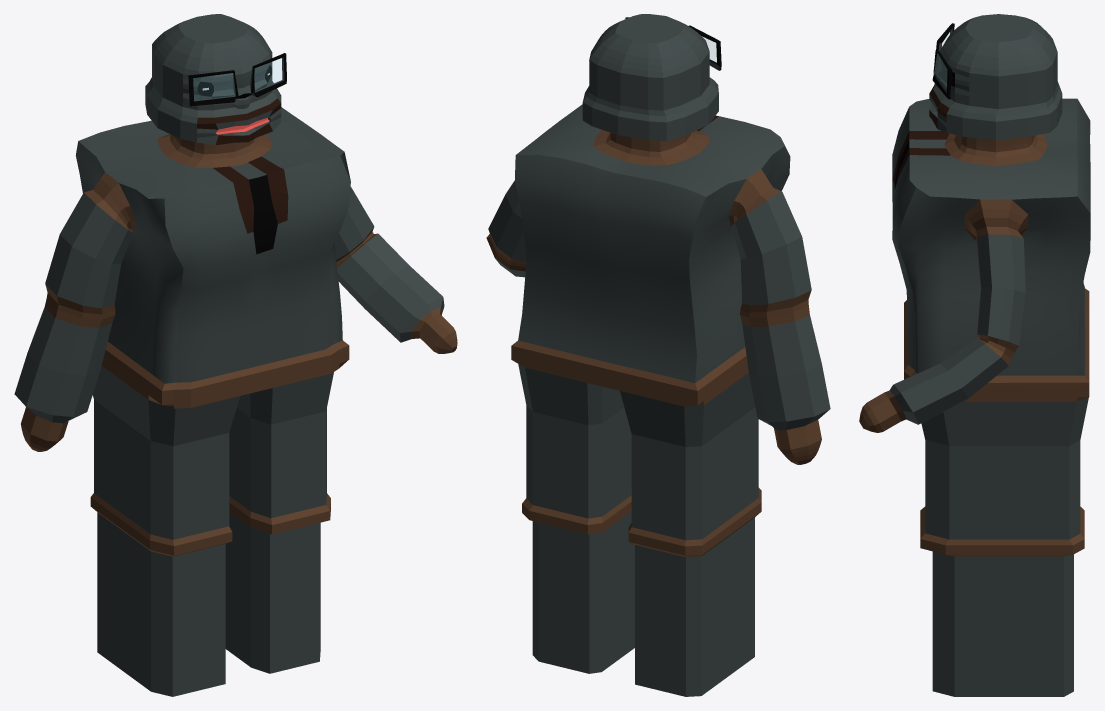
File: Professor.FBX
The picture shows the model from 3 angles, left to right: view 1: azimuth 30°, elevation 25°; view 2: azimuth 150°, elevation 25°; view 3: azimuth 270°, elevation 25°; orthographic projection.
Parts seen in each view (by area): view 1: Professor; view 2: Professor; view 3: Professor.
Boxes of the visible parts, x1,y1,x2,y2 form: Professor: (14, 14, 457, 696); Professor: (486, 14, 830, 696); Professor: (859, 14, 1090, 696).
Bounding box in the file's own units: 8.34 × 13.4 × 4.48.
